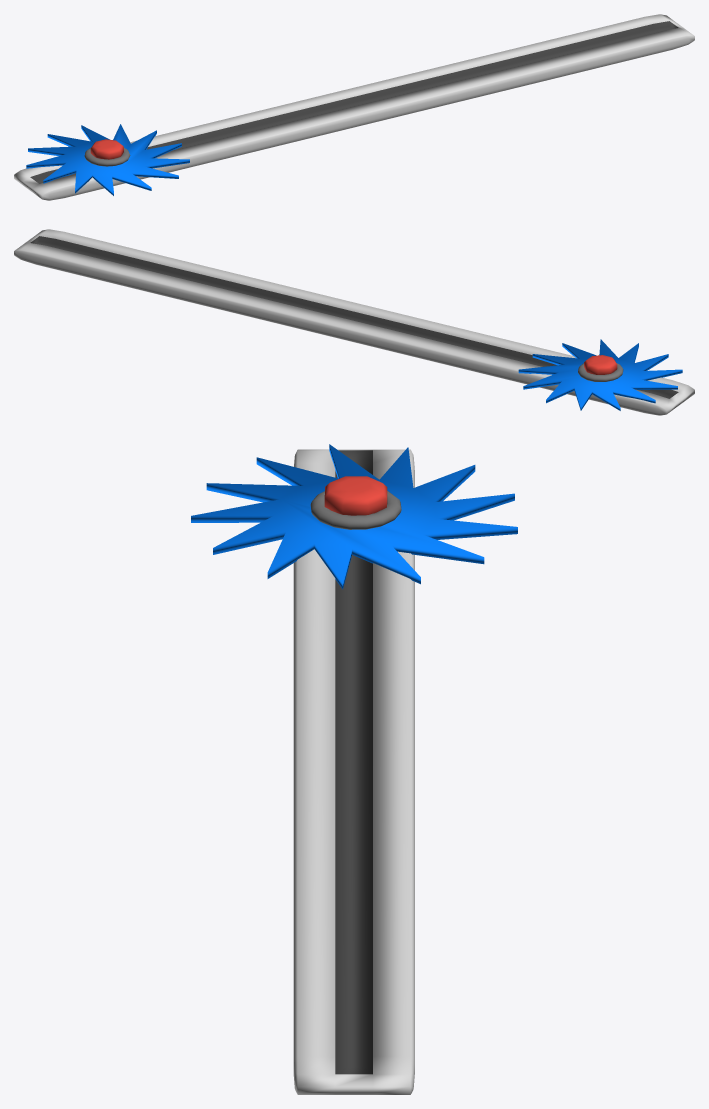
The picture shows the model from 3 angles, top to bottom: view 1: azimuth 30°, elevation 25°; view 2: azimuth 150°, elevation 25°; view 3: azimuth 270°, elevation 25°; orthographic projection. The views are drawn at different scales.
Visible parts, largest first — view 1: Plane, Toru; view 2: Plane, Toru; view 3: Plane, Toru.
Boxes of the visible parts, box(x1,y1,x2,y2) form: Plane: box(14, 14, 694, 200); Toru: box(26, 124, 189, 195); Plane: box(14, 229, 694, 415); Toru: box(518, 339, 682, 410); Plane: box(293, 449, 414, 1094); Toru: box(191, 444, 517, 589).
Bounding box in the file's own units: 329 × 14.09 × 71.44.
